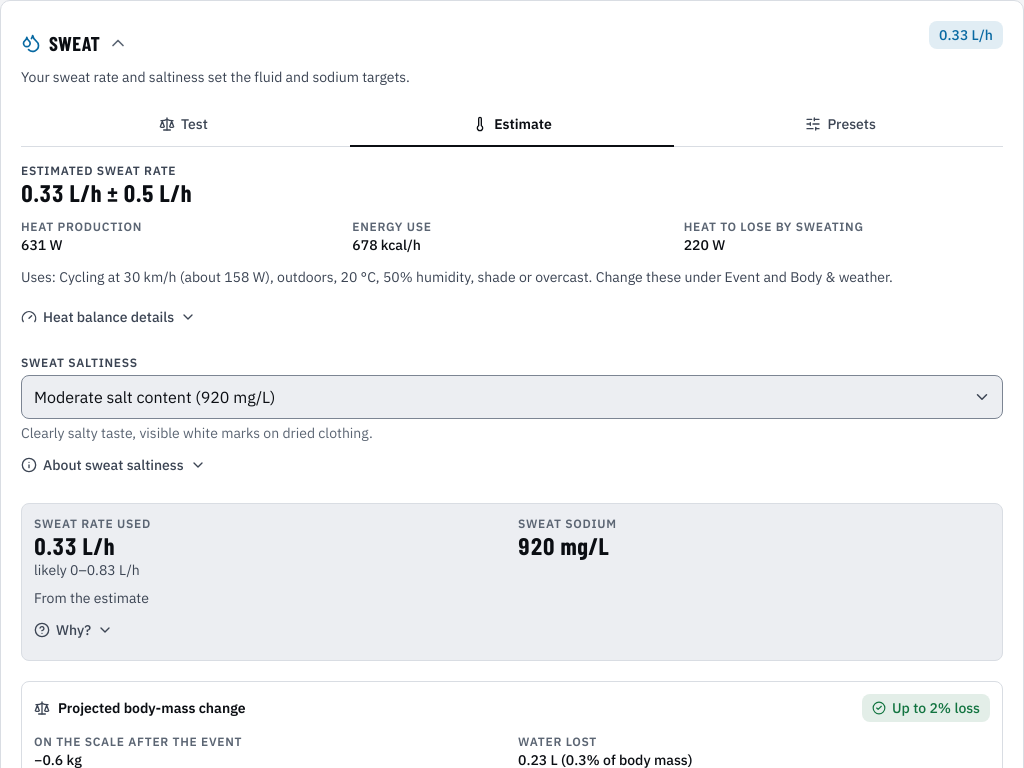
SweatSection › explains saltiness in a disclosure instead of a tooltip
This screenshot has width=1024, height=768.
Step 1. Click the button "About sweat saltiness" → (113, 465), box [21, 447, 206, 483]
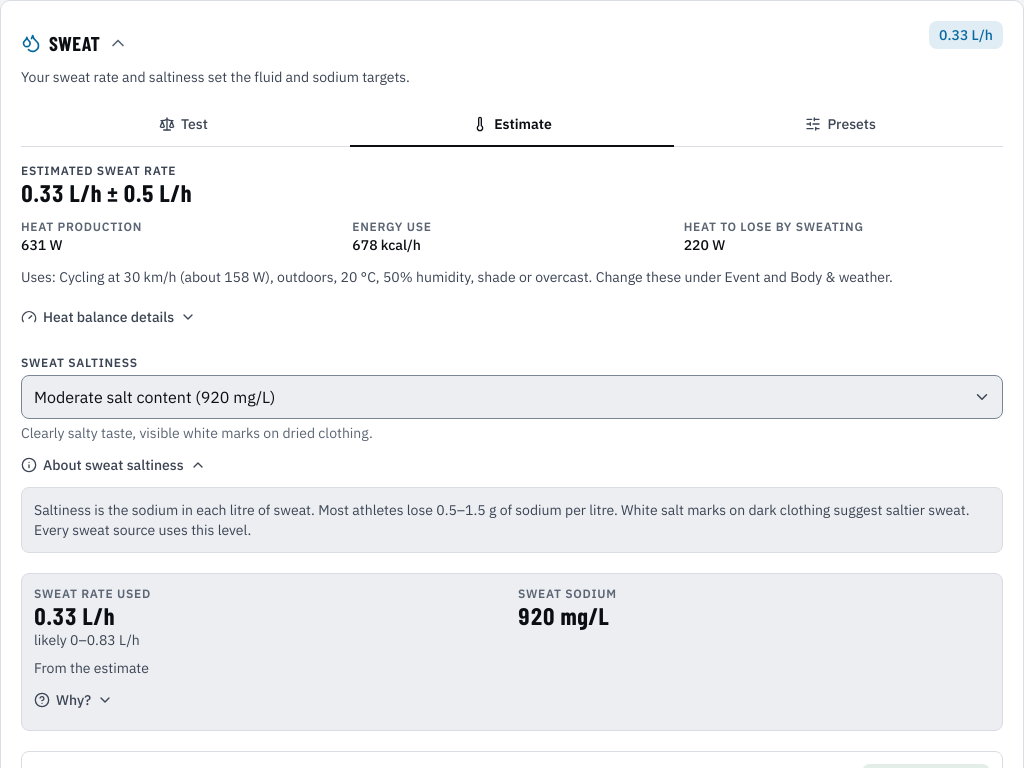
Now the button "About sweat saltiness" is expanded, box [21, 447, 206, 483]
Now the text "Most athletes lose 0.5–1.5 g of sodium per litre" is shown, box [34, 501, 970, 539]
